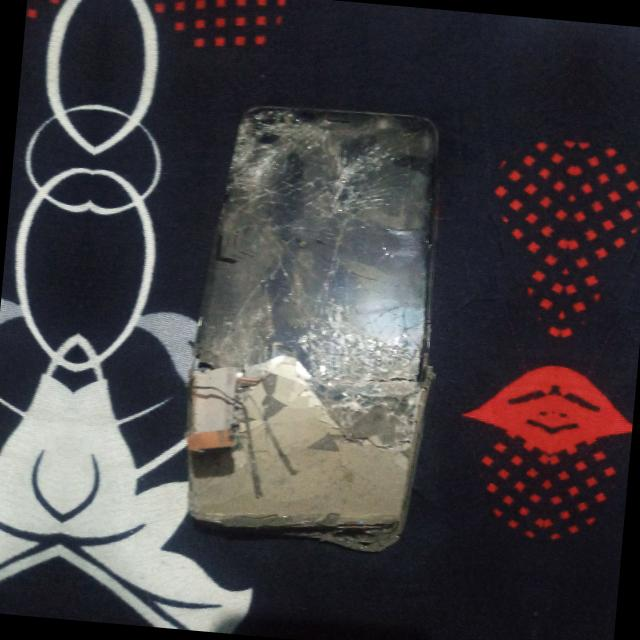phone_screen: (187, 108, 436, 550)
